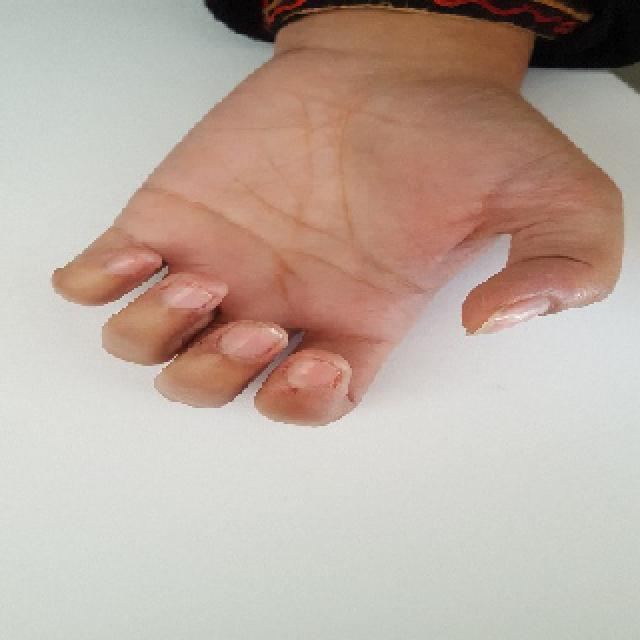Nail: (219, 319, 282, 360), (478, 296, 549, 332), (289, 353, 343, 390), (161, 280, 211, 310), (107, 248, 152, 276)
